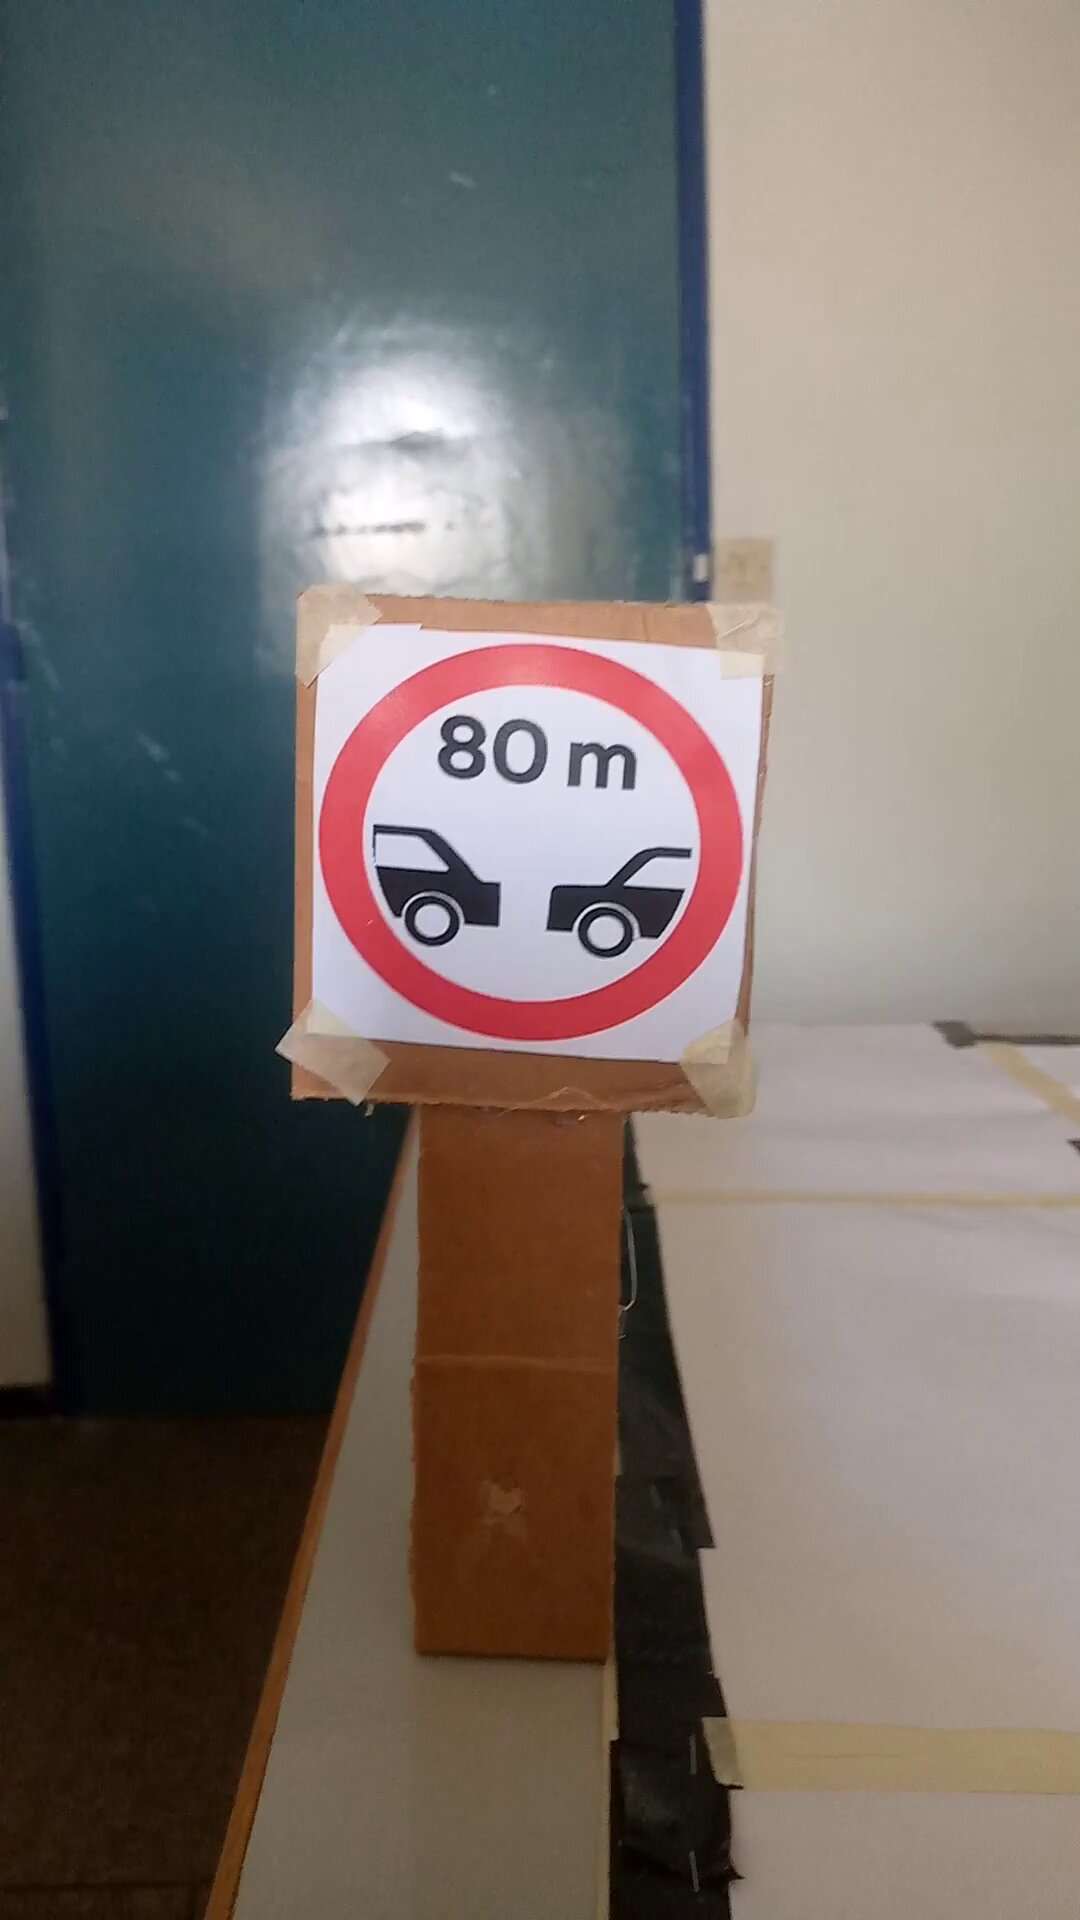panel001: (293, 589, 753, 1112)
